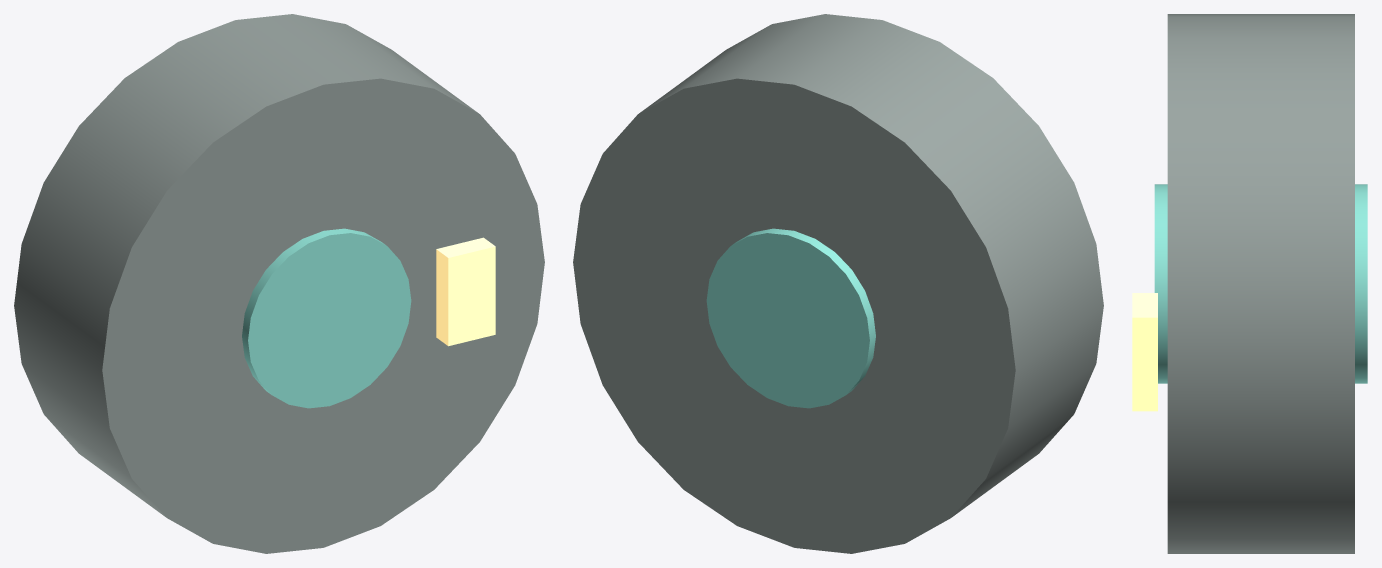
The model's file is track_road_standard.glb.
3 views of the same model, side by side, from view 1: azimuth 30°, elevation 25°; view 2: azimuth 150°, elevation 25°; view 3: azimuth 270°, elevation 25° (orthographic). The views are drawn at different scales.
Parts seen in each view (by area): view 1: standard_road_wheel, standard_hub, standard_rotation_witness; view 2: standard_road_wheel, standard_hub; view 3: standard_road_wheel, standard_hub, standard_rotation_witness.
Boxes of the visible parts, <box> form: standard_road_wheel: <box>14,14,544,553</box>; standard_hub: <box>242,228,411,408</box>; standard_rotation_witness: <box>436,237,495,346</box>; standard_road_wheel: <box>573,14,1103,553</box>; standard_hub: <box>706,228,875,408</box>; standard_road_wheel: <box>1167,14,1354,553</box>; standard_hub: <box>1154,184,1367,383</box>; standard_rotation_witness: <box>1132,293,1157,411</box>.
Bounding box in the file's own units: 0.168 × 0.168 × 0.073.
